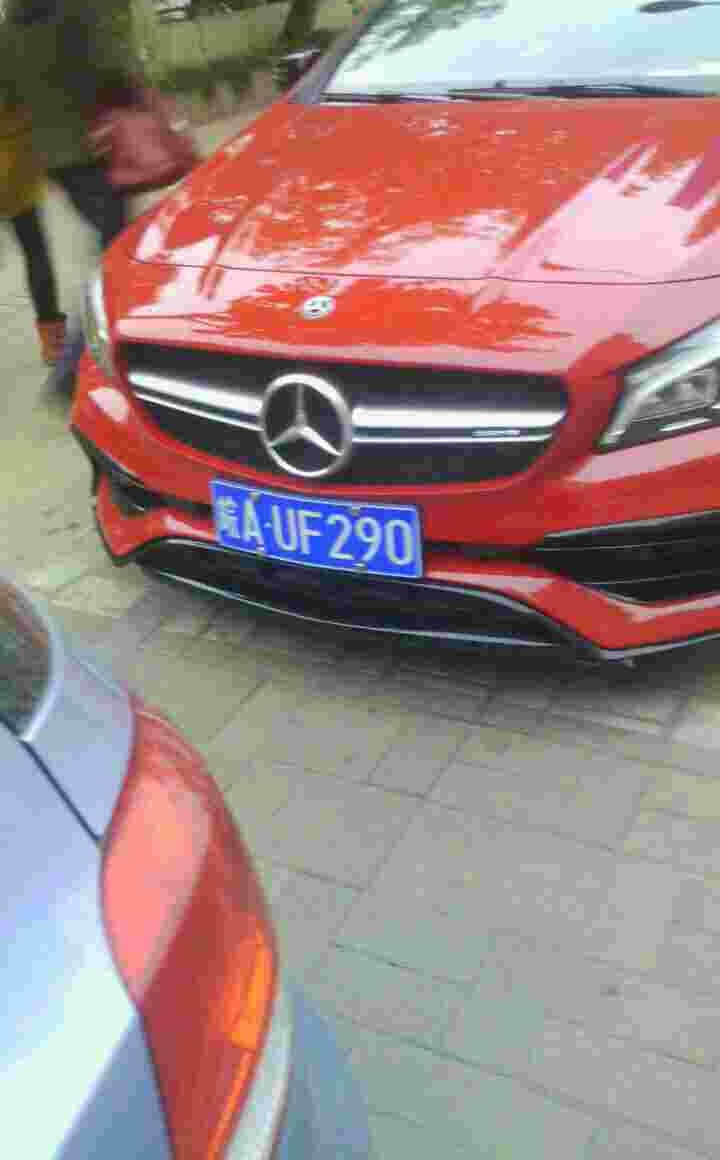plate: (204, 478, 422, 584)
